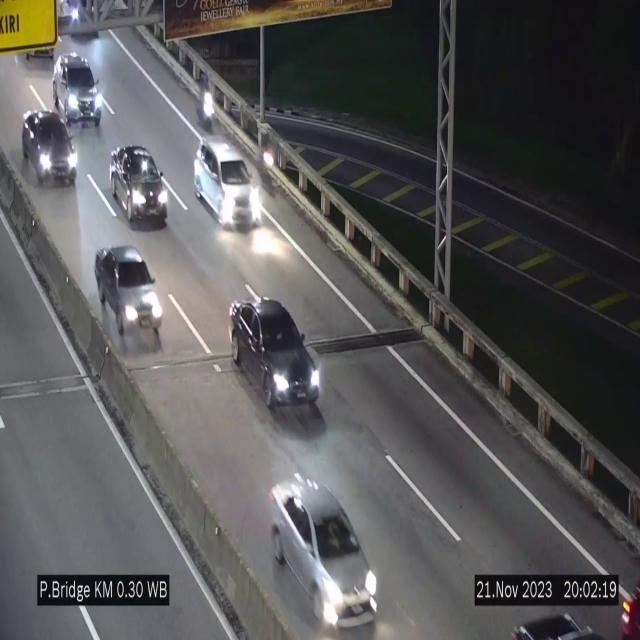Car: (264, 467, 381, 636), (228, 297, 322, 419), (95, 245, 163, 345), (193, 138, 253, 226), (21, 106, 79, 190), (110, 145, 168, 226), (55, 54, 101, 132)
Motorcycle: (254, 126, 277, 198), (199, 75, 215, 134)
